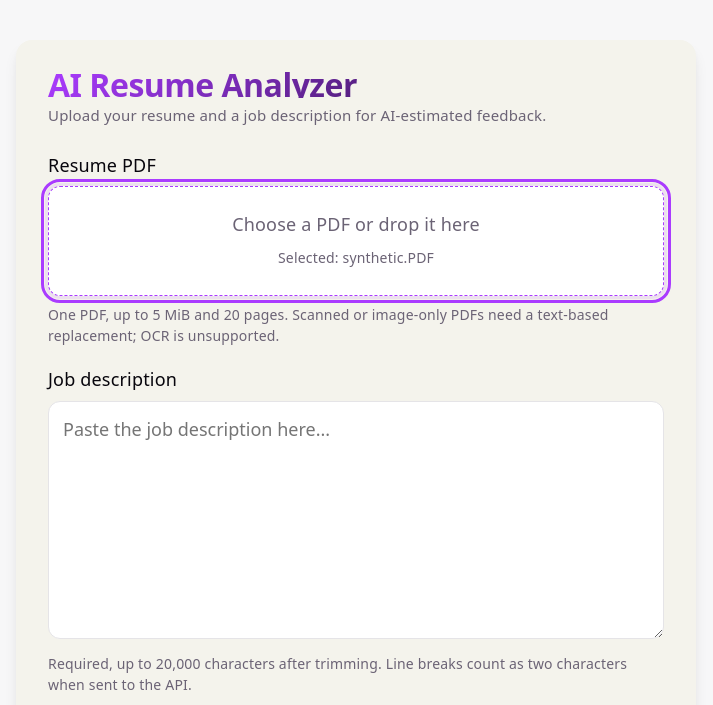
Scenario: handles a network failure without exposing its exception or retrying automatically
The width and height of the screenshot is (713, 705).
Earlier steps of the test are not shown.
Type "  Python developer  " into the text box labelled "Job description". click: (356, 520)
box: [48,401,664,639]
(page scrolled)
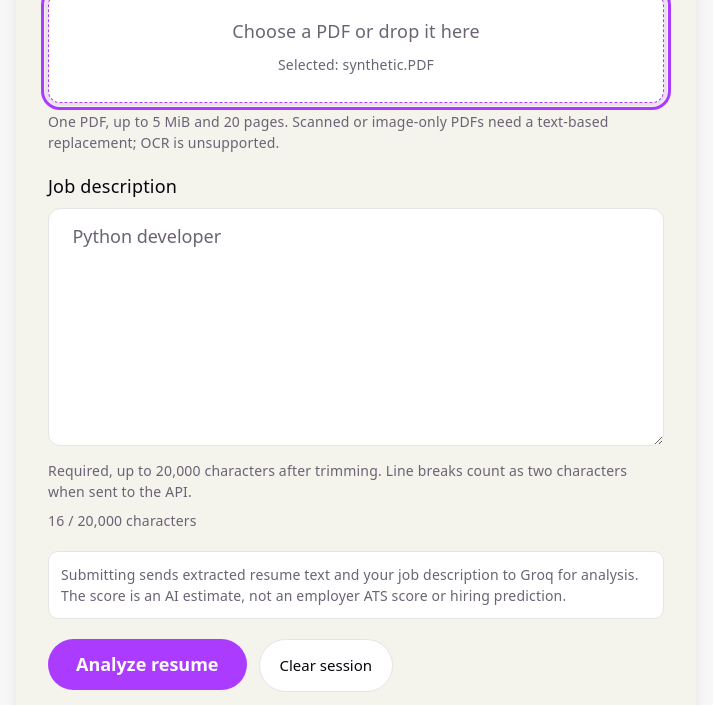
Submit the form named "Analyze resume"
(page scrolled)
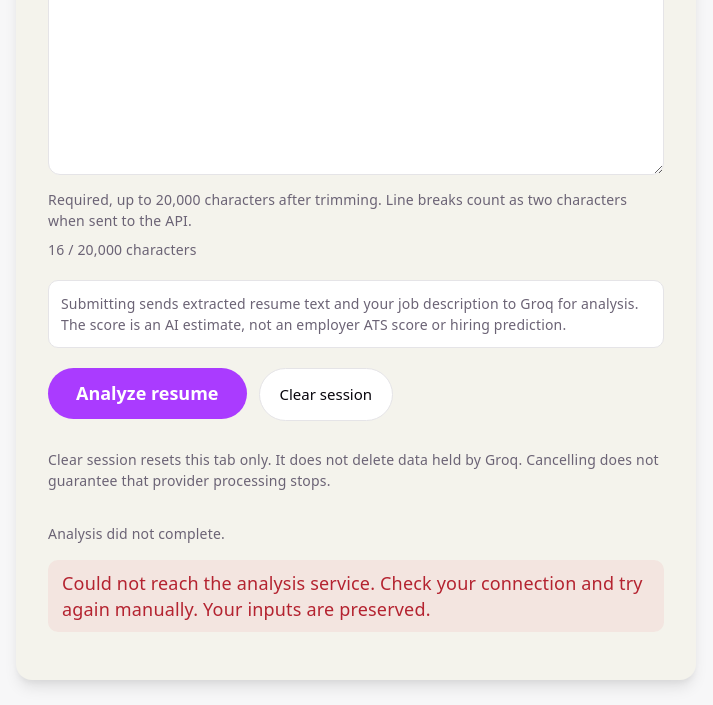
Check: the 2nd message does not show "SENSITIVE", box [48,560,664,632]
Check: the 2nd message shows "Check your connection", box [62,570,643,621]
